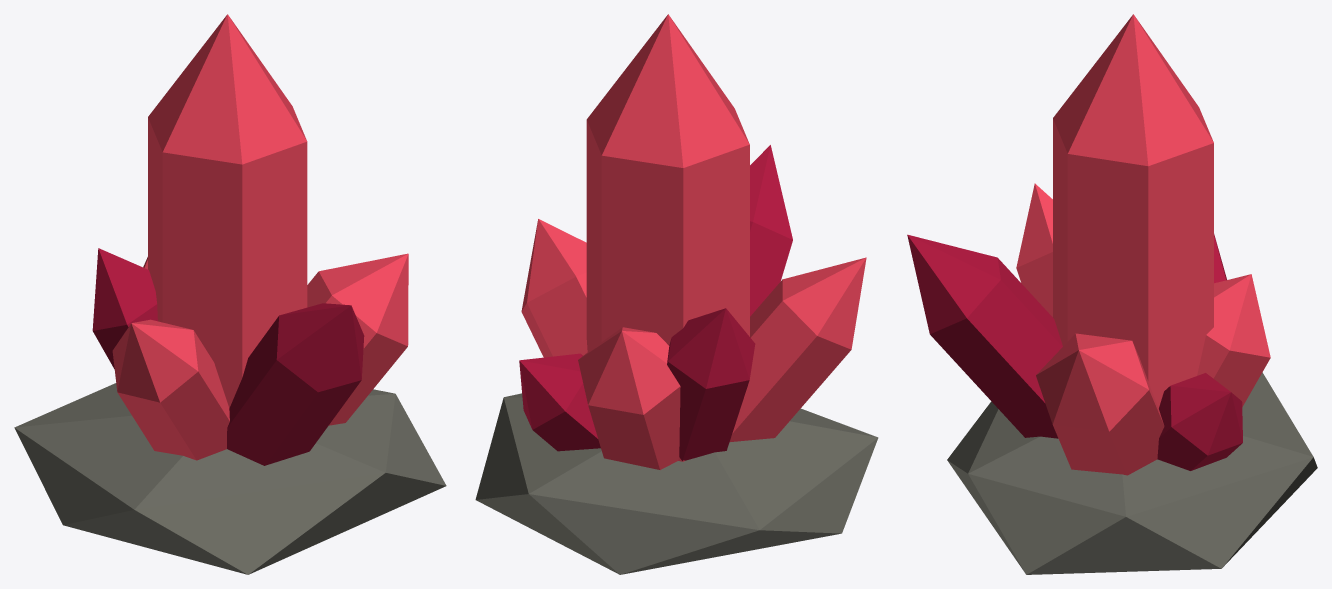
File: RubyCrystals.fbx
3 views of the same model, side by side, from view 1: azimuth 30°, elevation 25°; view 2: azimuth 150°, elevation 25°; view 3: azimuth 270°, elevation 25° (orthographic). The views are drawn at different scales.
Visible parts, largest first — view 1: RubyCrystals; view 2: RubyCrystals; view 3: RubyCrystals.
Part boxes in pixels (<box>): RubyCrystals: <box>14,14,446,574</box>; RubyCrystals: <box>475,14,878,574</box>; RubyCrystals: <box>907,14,1317,574</box>.
Size of the model in its own units: 2.27 by 3.3 by 2.39.
Materials: 1 (1 with a texture image).
